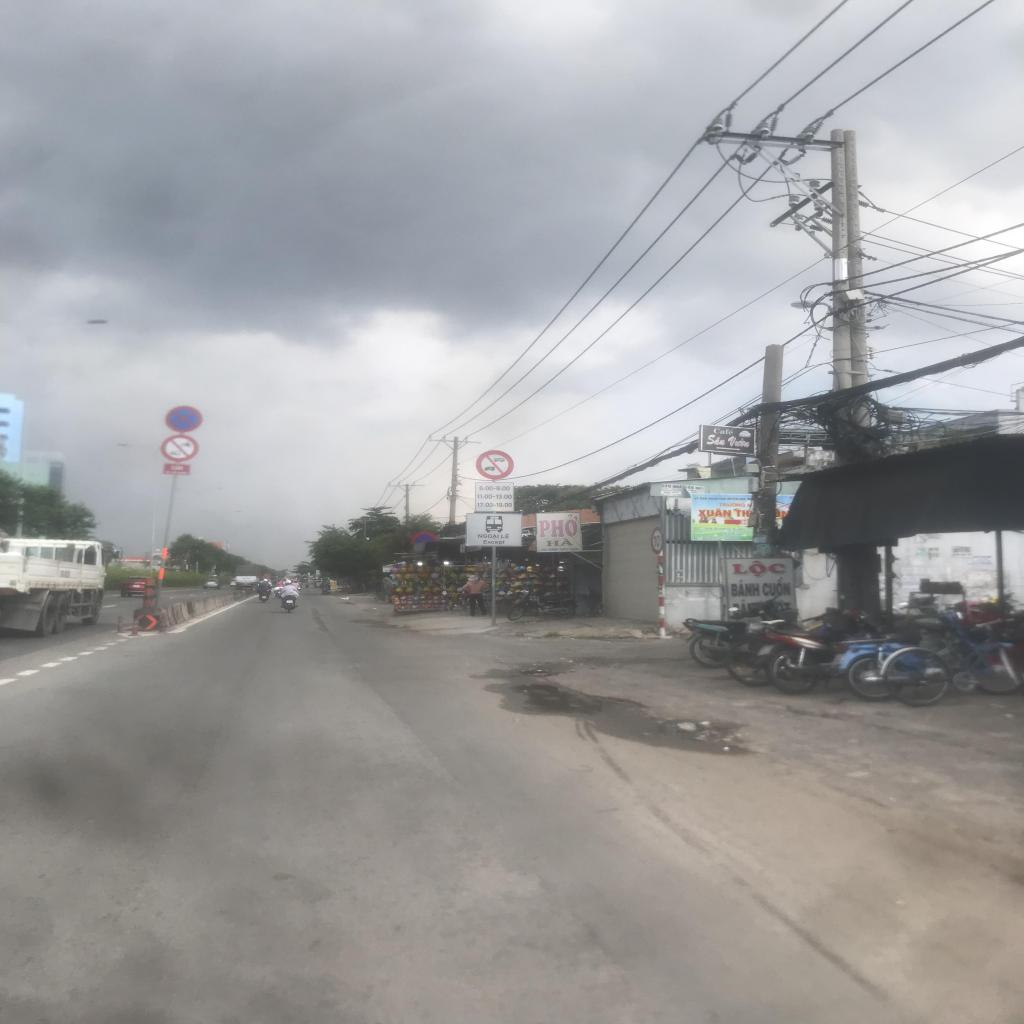cam_dung_xe_va_do_xe: (165, 406, 203, 432), (411, 532, 439, 547)
cam_o_to_tai_va_xe_khach: (476, 450, 514, 480)
cam_xe_2_banh_va_xe_3_banh_co_dong_co: (160, 435, 199, 462)
khac: (466, 514, 522, 546), (475, 483, 513, 511)
